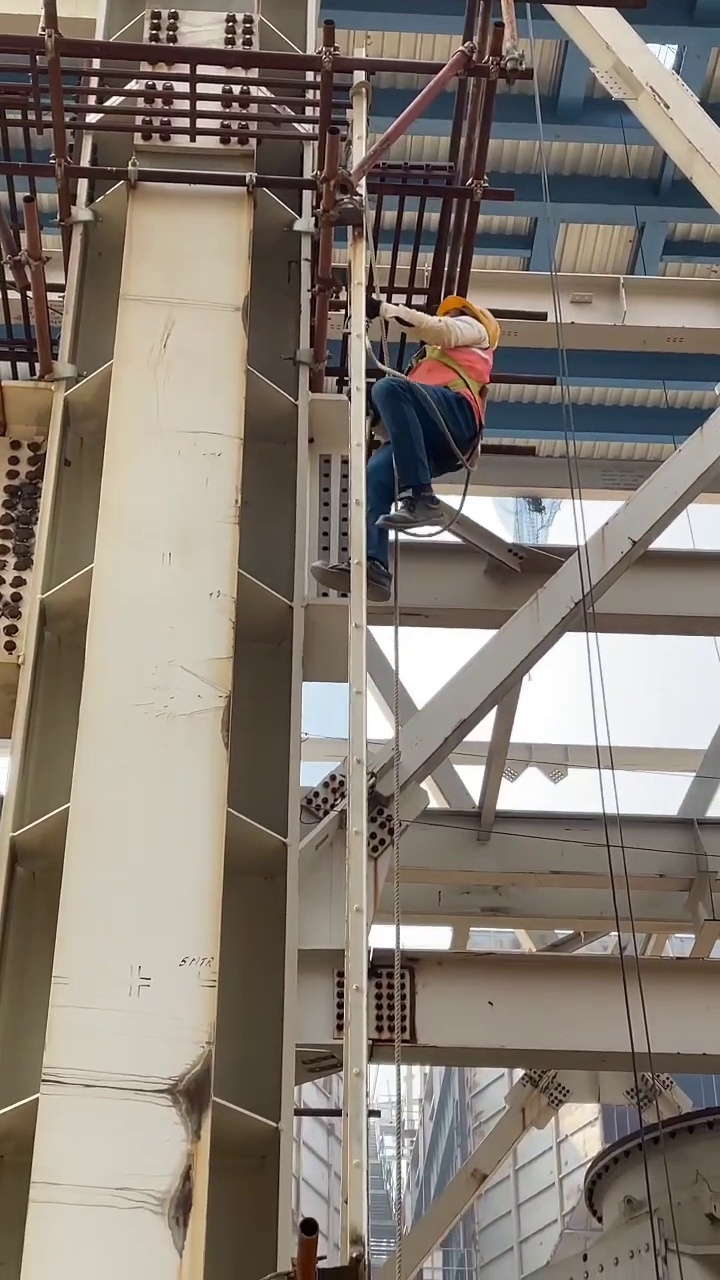Helmet: (439, 295, 501, 337)
Person: (309, 295, 500, 602)
Safety_Harness: (404, 343, 497, 406)
Safety_shoes: (309, 559, 392, 602), (371, 492, 451, 530)
